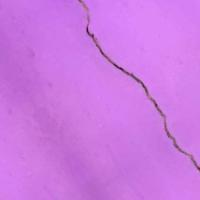crack: (80, 0, 199, 182)
